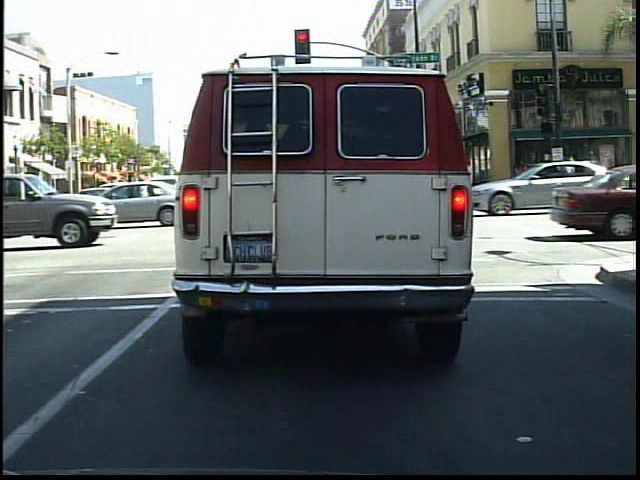person: (539, 151, 562, 211), (513, 156, 533, 202)
